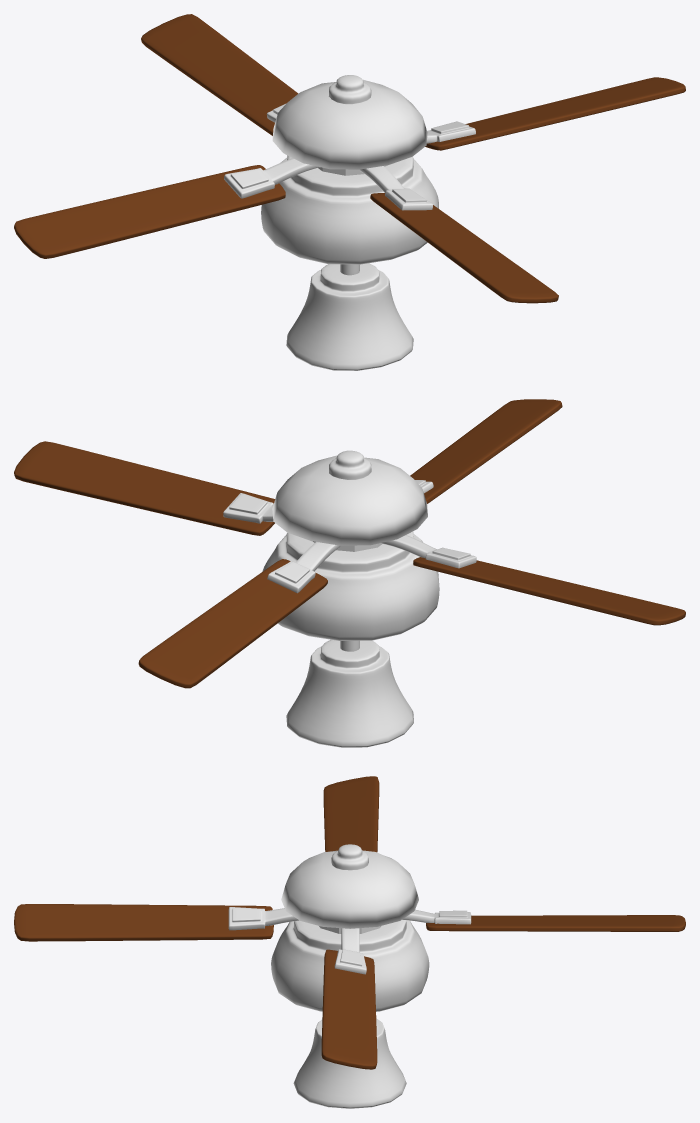
File: CeilingFan.fbx
3 renders of one model, top to bottom at view 1: azimuth 30°, elevation 25°; view 2: azimuth 150°, elevation 25°; view 3: azimuth 270°, elevation 25°, orthographic. The views are drawn at different scales.
Parts seen in each view (by area): view 1: Fan; view 2: Fan; view 3: Fan.
Part boxes in pixels (x1,y1,x2,y2): Fan: [14, 14, 685, 370]; Fan: [14, 399, 685, 747]; Fan: [14, 776, 685, 1108].
Bounding box in the file's own units: 695 × 273 × 695.
